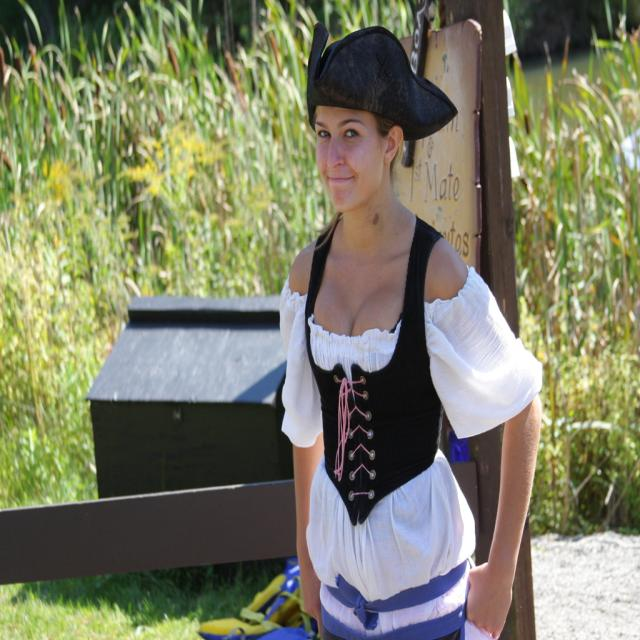Hat: (306, 23, 458, 144)
